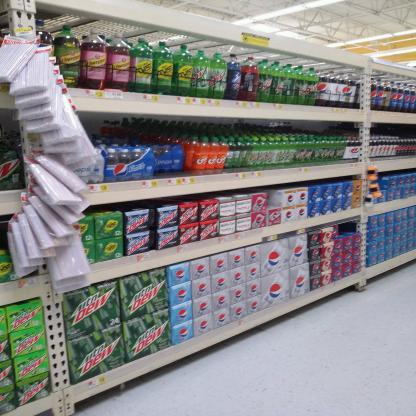Void: (83, 110, 105, 136), (339, 224, 357, 234)
